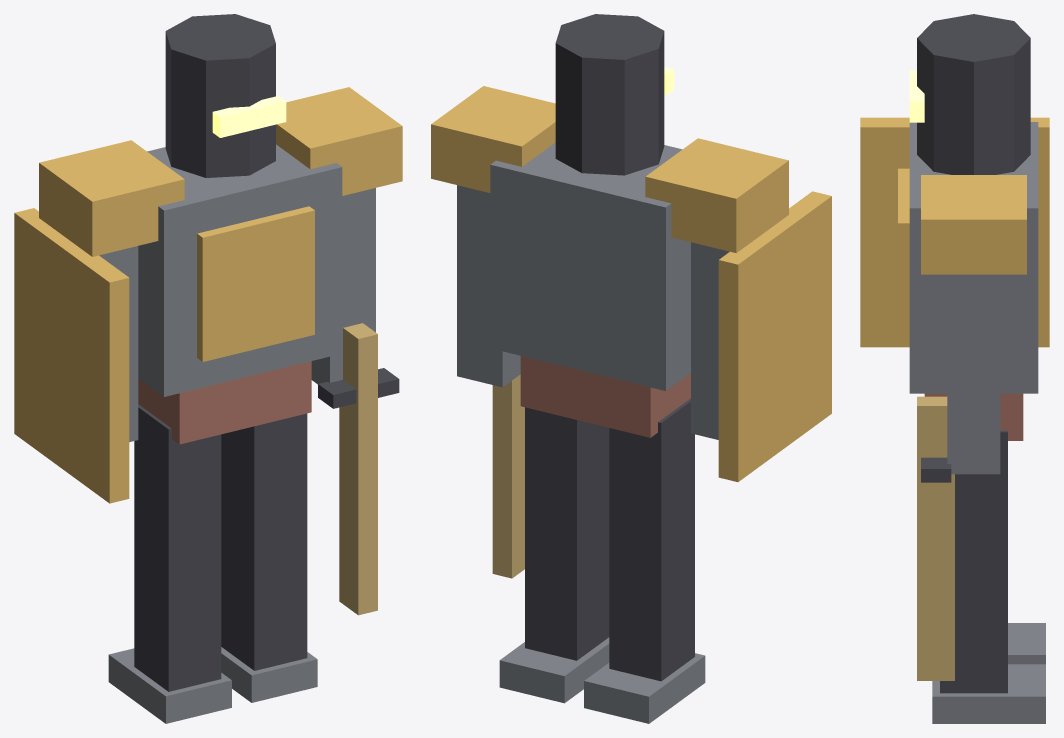
Rendered from trooper_melee_v1.glb.
3 views of the same model, side by side, from view 1: azimuth 30°, elevation 25°; view 2: azimuth 150°, elevation 25°; view 3: azimuth 270°, elevation 25° (orthographic).
Visible parts, largest first — view 1: trooper; view 2: trooper; view 3: trooper.
Boxes of the visible parts, box(x1,y1,x2,y2) form: trooper: box(14, 14, 402, 723); trooper: box(431, 14, 831, 723); trooper: box(860, 14, 1049, 723).
Bounding box in the file's own units: 0.98 × 1.89 × 0.5.
